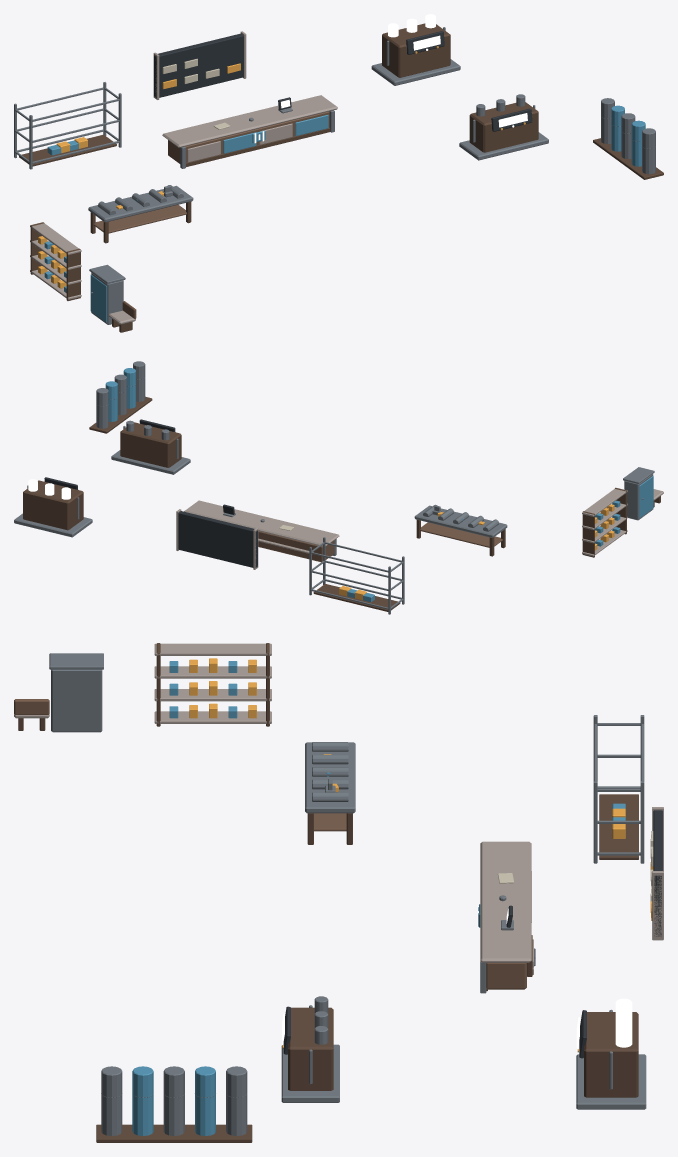
The model's file is ashline_containment_works.glb.
3 views of the same model, one above another, from view 1: azimuth 30°, elevation 25°; view 2: azimuth 150°, elevation 25°; view 3: azimuth 270°, elevation 25° (orthographic). The views are drawn at different scales.
Size of the model in its own units: 25.85 by 2.76 by 16.66.
